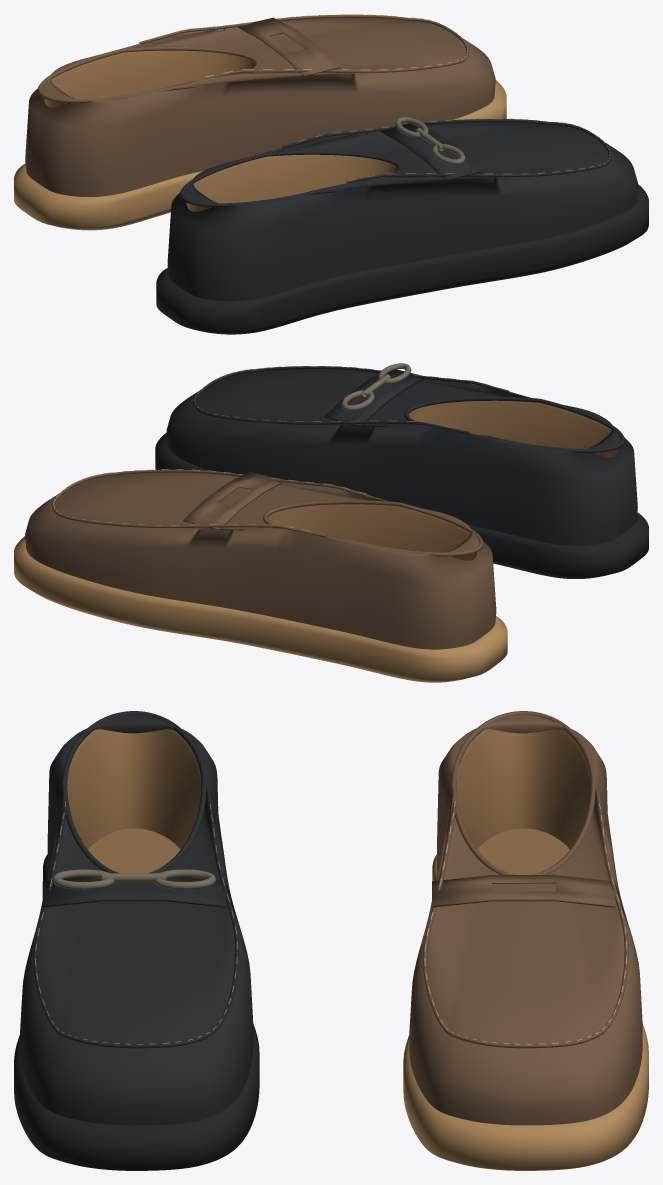
File: qadam-loafers.glb
3 views of the same model, one above another, from view 1: azimuth 30°, elevation 25°; view 2: azimuth 150°, elevation 25°; view 3: azimuth 270°, elevation 25° (orthographic). The views are drawn at different scales.
Parts seen in each view (by area): view 1: HERO_BLACK_upper, HERO_SUEDE_upper, HERO_BLACK_sole, HERO_SUEDE_sole, HERO_SUEDE_lining, HERO_BLACK_lining, HERO_SUEDE_saddle, HERO_SUEDE_apron_seam, HERO_BLACK_apron_seam, HERO_BLACK_saddle, HERO_SUEDE_collar, HERO_BLACK_collar; view 2: HERO_SUEDE_upper, HERO_BLACK_upper, HERO_SUEDE_sole, HERO_BLACK_sole, HERO_SUEDE_lining, HERO_BLACK_lining, HERO_SUEDE_saddle, HERO_BLACK_apron_seam, HERO_SUEDE_apron_seam, HERO_BLACK_saddle, HERO_SUEDE_collar, HERO_BLACK_collar; view 3: HERO_SUEDE_upper, HERO_BLACK_upper, HERO_SUEDE_lining, HERO_BLACK_lining, HERO_SUEDE_sole, HERO_BLACK_sole, HERO_SUEDE_saddle, HERO_BLACK_saddle, HERO_SUEDE_insole, HERO_BLACK_insole, HERO_BLACK_apron_seam, HERO_SUEDE_apron_seam (+4 smaller).
Boxes of the visible parts, x1=… form: HERO_BLACK_upper: x1=167, y1=121, x2=637, y2=301; HERO_SUEDE_upper: x1=25, y1=17, x2=495, y2=196; HERO_BLACK_sole: x1=156, y1=184, x2=648, y2=334; HERO_SUEDE_sole: x1=14, y1=80, x2=506, y2=230; HERO_SUEDE_lining: x1=44, y1=50, x2=255, y2=107; HERO_BLACK_lining: x1=186, y1=154, x2=397, y2=211; HERO_SUEDE_saddle: x1=238, y1=17, x2=340, y2=76; HERO_SUEDE_apron_seam: x1=139, y1=14, x2=468, y2=78; HERO_BLACK_apron_seam: x1=281, y1=119, x2=611, y2=183; HERO_BLACK_saddle: x1=380, y1=123, x2=482, y2=180; HERO_SUEDE_collar: x1=37, y1=46, x2=259, y2=103; HERO_BLACK_collar: x1=180, y1=150, x2=401, y2=207; HERO_SUEDE_upper: x1=25, y1=472, x2=496, y2=649; HERO_BLACK_upper: x1=166, y1=369, x2=637, y2=545; HERO_SUEDE_sole: x1=14, y1=536, x2=507, y2=682; HERO_BLACK_sole: x1=155, y1=432, x2=648, y2=578; HERO_SUEDE_lining: x1=267, y1=504, x2=476, y2=560; HERO_BLACK_lining: x1=408, y1=400, x2=618, y2=457; HERO_SUEDE_saddle: x1=183, y1=471, x2=282, y2=530; HERO_BLACK_apron_seam: x1=193, y1=366, x2=509, y2=434; HERO_SUEDE_apron_seam: x1=52, y1=469, x2=367, y2=537; HERO_BLACK_saddle: x1=324, y1=369, x2=423, y2=426; HERO_SUEDE_collar: x1=263, y1=500, x2=483, y2=556; HERO_BLACK_collar: x1=404, y1=396, x2=624, y2=453; HERO_SUEDE_upper: x1=409, y1=715, x2=642, y2=1125; HERO_BLACK_upper: x1=20, y1=715, x2=253, y2=1125; HERO_SUEDE_lining: x1=456, y1=729, x2=590, y2=849; HERO_BLACK_lining: x1=67, y1=729, x2=201, y2=849; HERO_SUEDE_sole: x1=403, y1=854, x2=648, y2=1170; HERO_BLACK_sole: x1=14, y1=854, x2=259, y2=1170; HERO_SUEDE_saddle: x1=432, y1=875, x2=615, y2=907; HERO_BLACK_saddle: x1=42, y1=877, x2=225, y2=907; HERO_SUEDE_insole: x1=477, y1=828, x2=569, y2=874; HERO_BLACK_insole: x1=88, y1=828, x2=180, y2=873; HERO_BLACK_apron_seam: x1=33, y1=793, x2=239, y2=1048; HERO_SUEDE_apron_seam: x1=422, y1=793, x2=628, y2=1048.
Size of what is drawn, in the model's own units: 0.3223 by 0.0811 by 0.2772.
